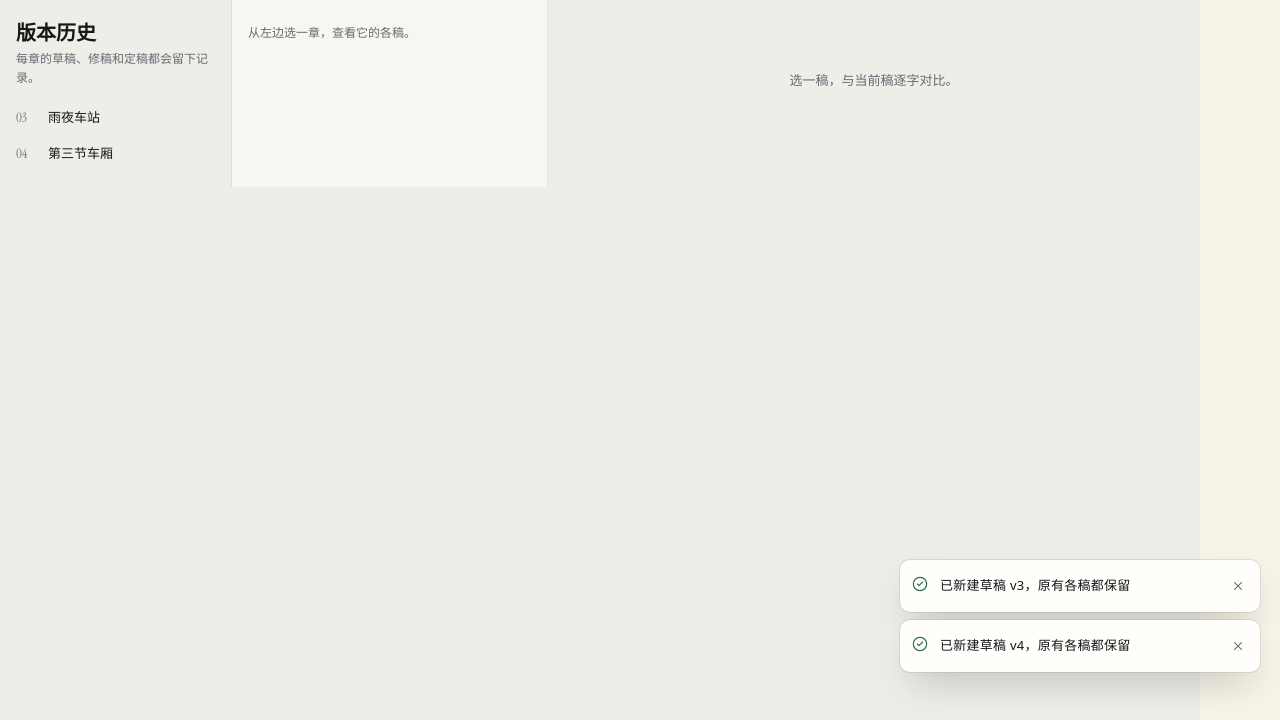
Test: 版本历史 › 重新定稿过的章：旧定稿标「已被替换的定稿」，仍可回退到它
Click the button "03 雨夜车站" at [116, 117], box [8,99,223,135]
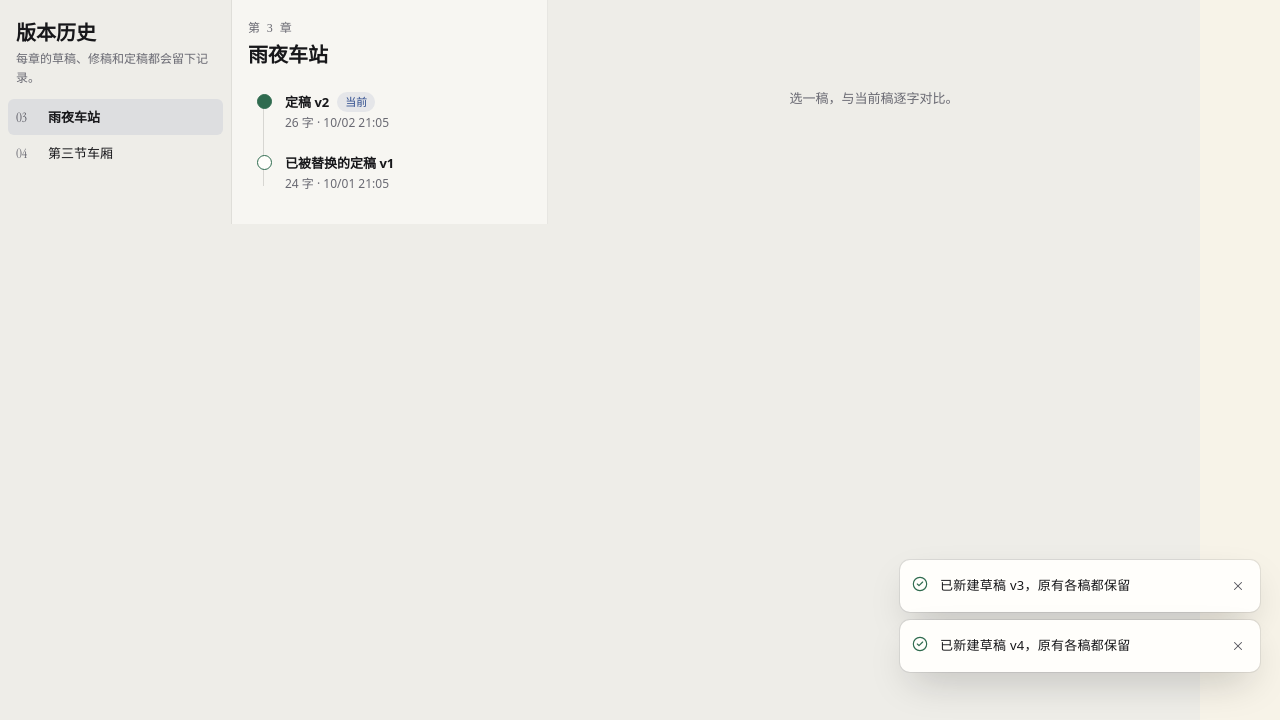
Expected: the button "已被替换的定稿 v1 24 字 · 10/01 21:05" is shown
Click the button "已被替换的定稿 v1 24 字 · 10/01 21:05" at [390, 173], box [248,144,531,202]
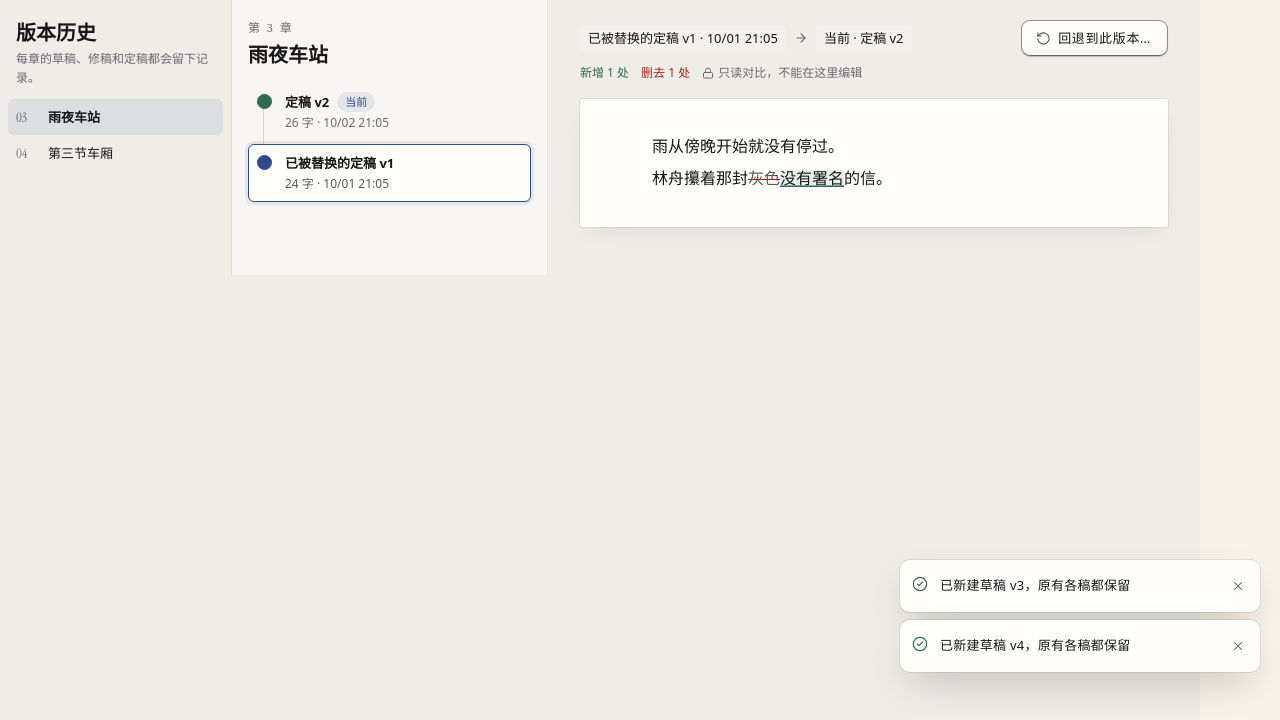
Expected: the button "回退到此版本…" is shown, [1021,20,1168,56]
